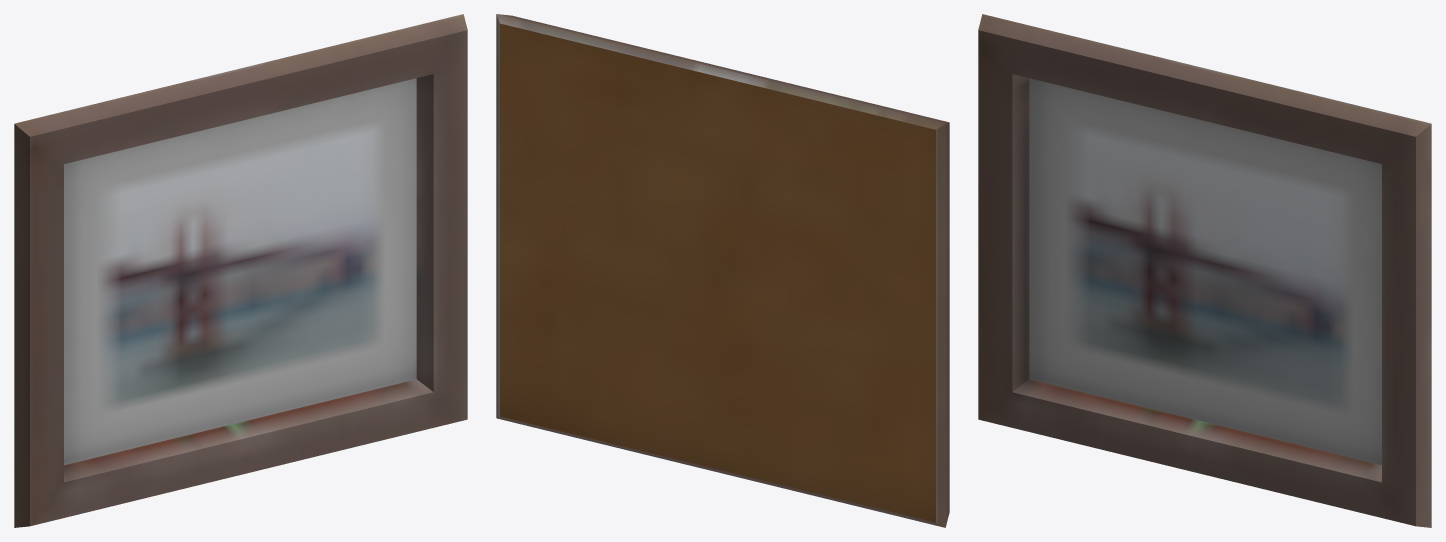
File: Painting_Photo_B.FBX
3 renders of one model, left to right at view 1: azimuth 30°, elevation 25°; view 2: azimuth 150°, elevation 25°; view 3: azimuth 330°, elevation 25°, orthographic.
Visible parts, largest first — view 1: Painting_Photo_B; view 2: Painting_Photo_B; view 3: Painting_Photo_B.
Boxes of the visible parts, x1,y1,x2,y2 form: Painting_Photo_B: (14,14,467,527); Painting_Photo_B: (496,14,949,527); Painting_Photo_B: (978,14,1431,527).
Bounding box in the file's own units: 24.77 × 21.29 × 1.23.
